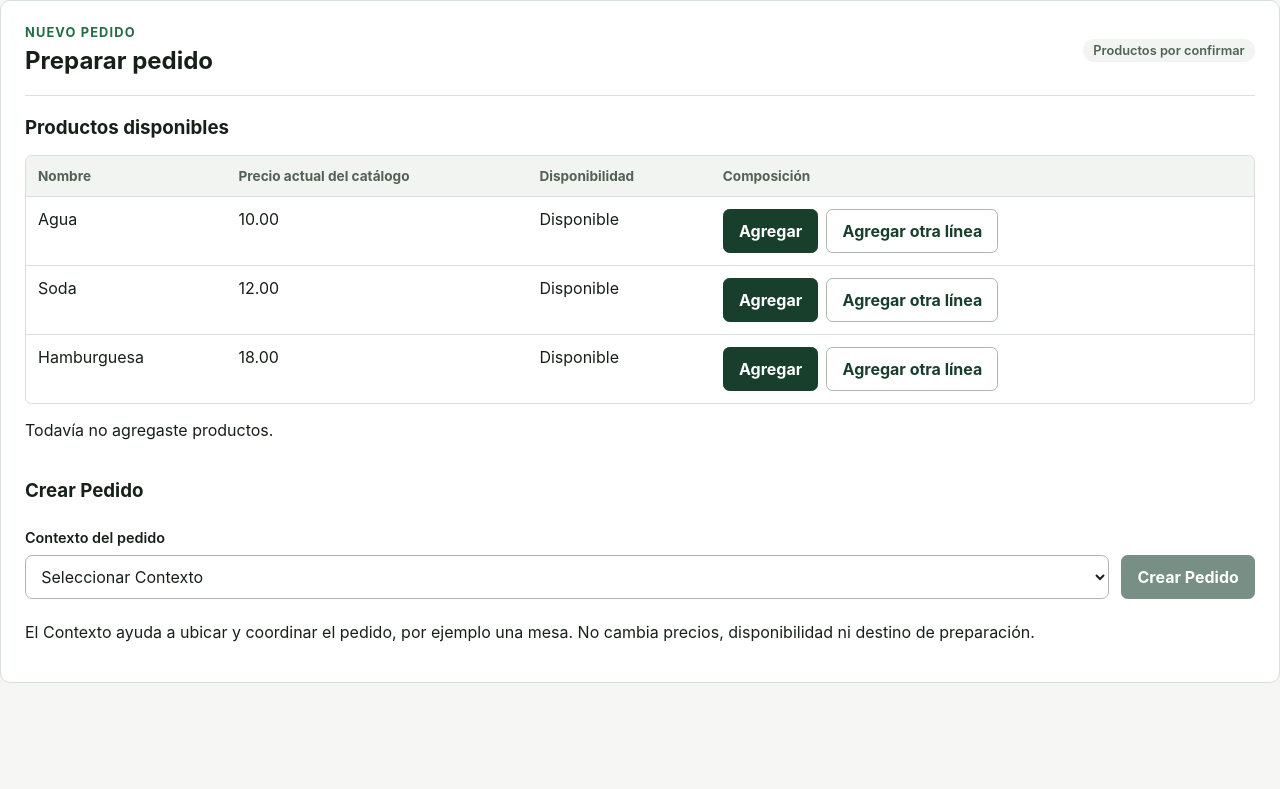
Test: OrderWorkflow - Composición y Primera Confirmación › agrega normal sobre la línea sin instrucción y crea otra línea editable enfocada
Step 1. Click the button "Agregar" in the row of "Hamburguesa" → (771, 369), box [723,347,818,391]
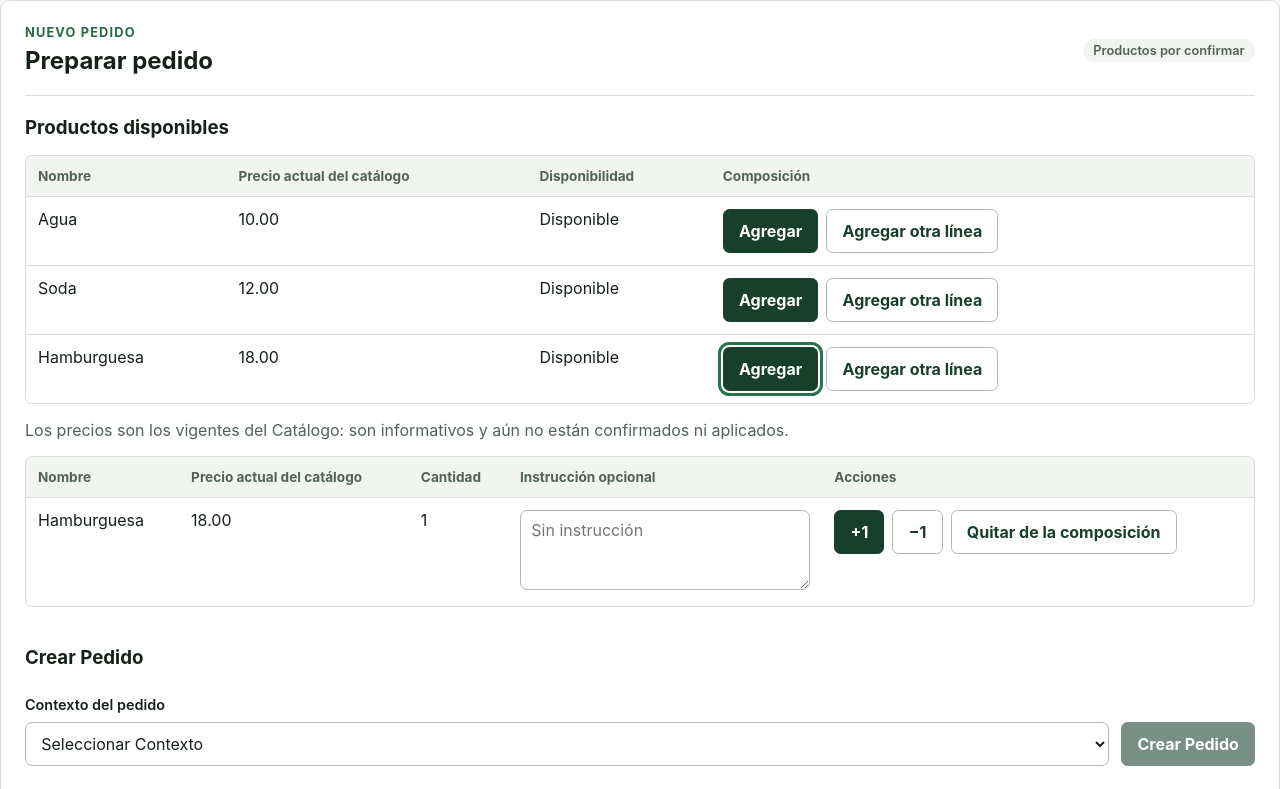
Step 2. Click the 3rd button "Agregar" → (771, 369), box [723,347,818,391]
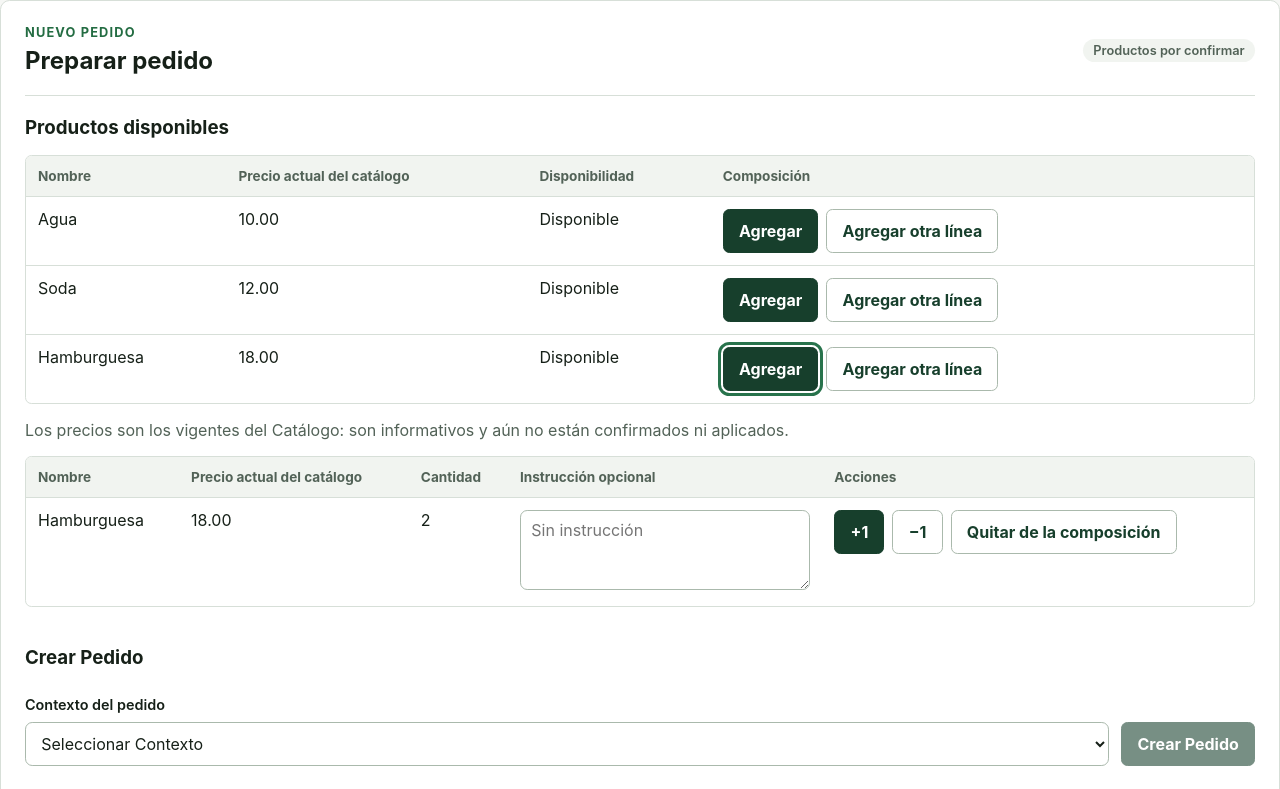
Step 3. Click the button with aria-label "Agregar otra línea de Hamburguesa a Preparar pedido" → (912, 369), box [826,347,998,391]
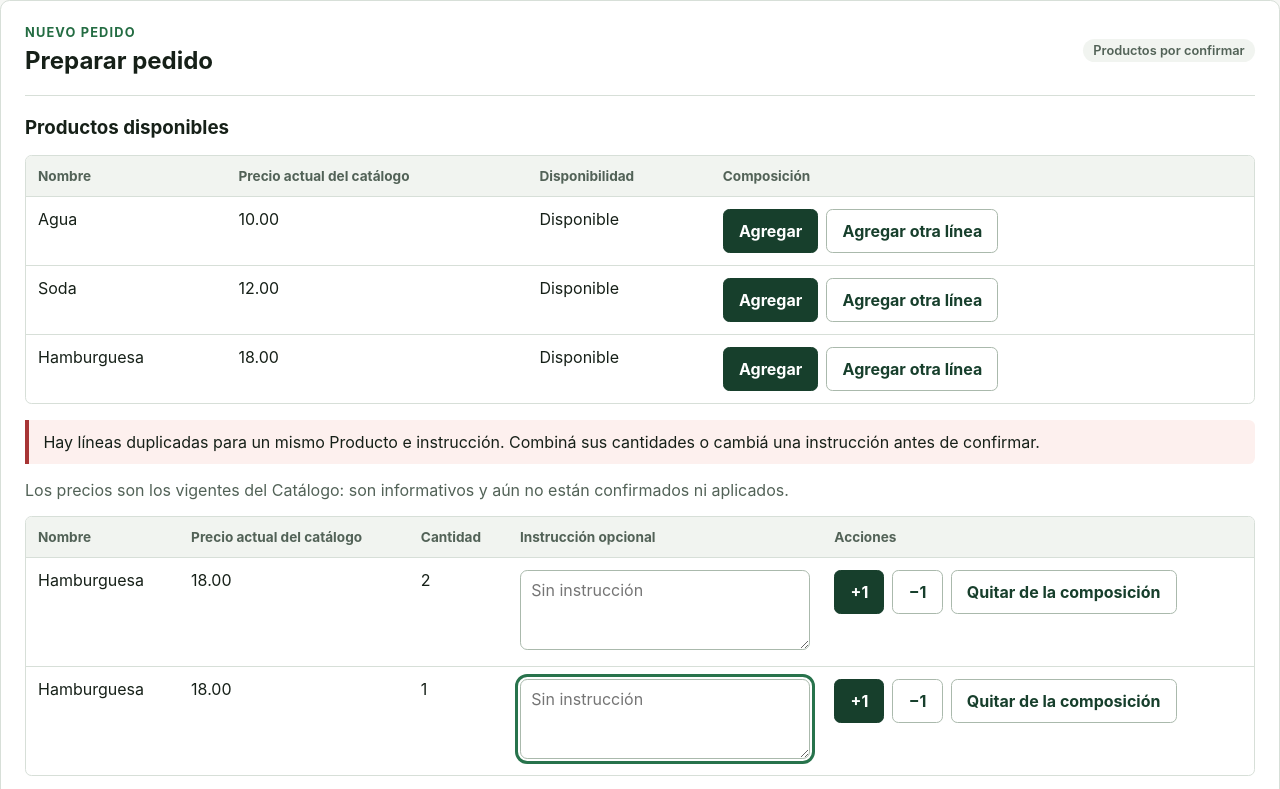
Expected: the message shows "líneas duplicadas", [43,432,1040,452]
Step 4. Type "sin cebolla" into the text box named "Instrucción para Hamburguesa, línea 2" → (665, 719), box [520,679,810,759]
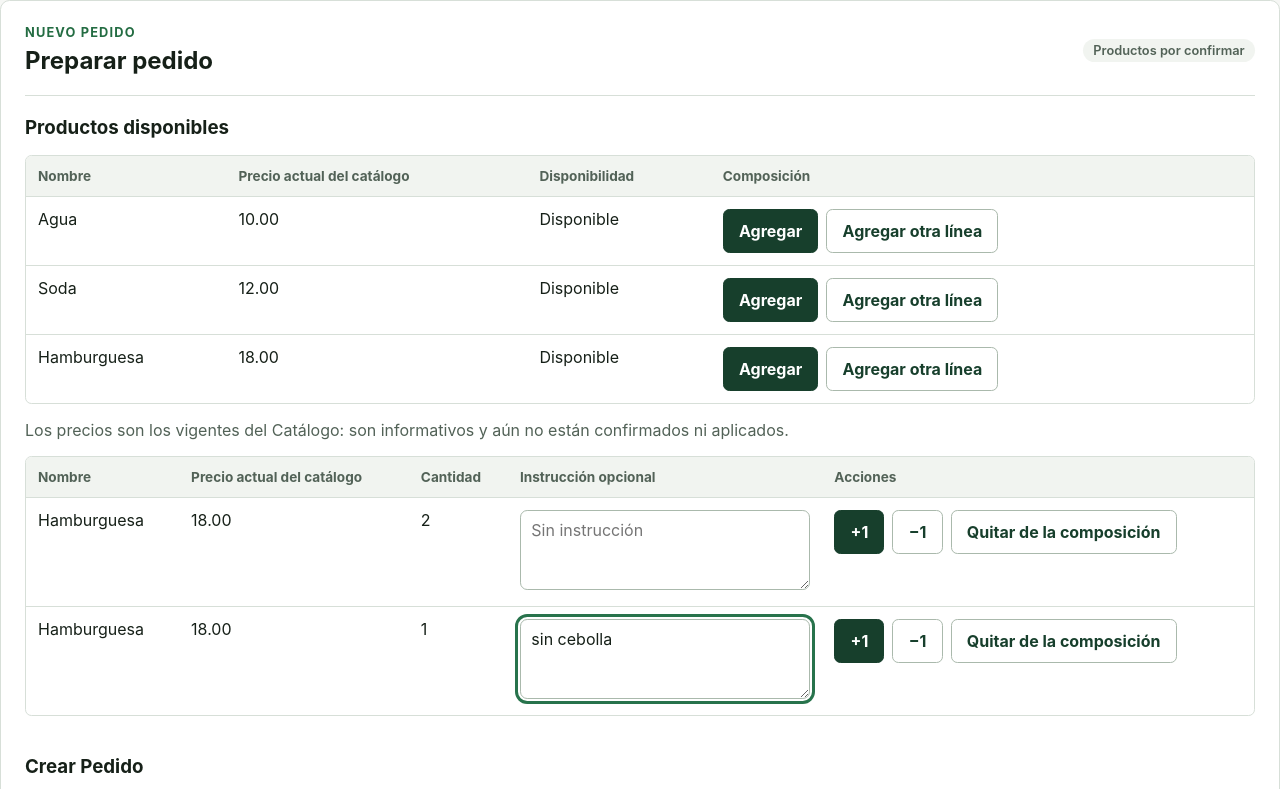
Step 5. Click the 3rd button "Agregar" → (771, 369), box [723,347,818,391]
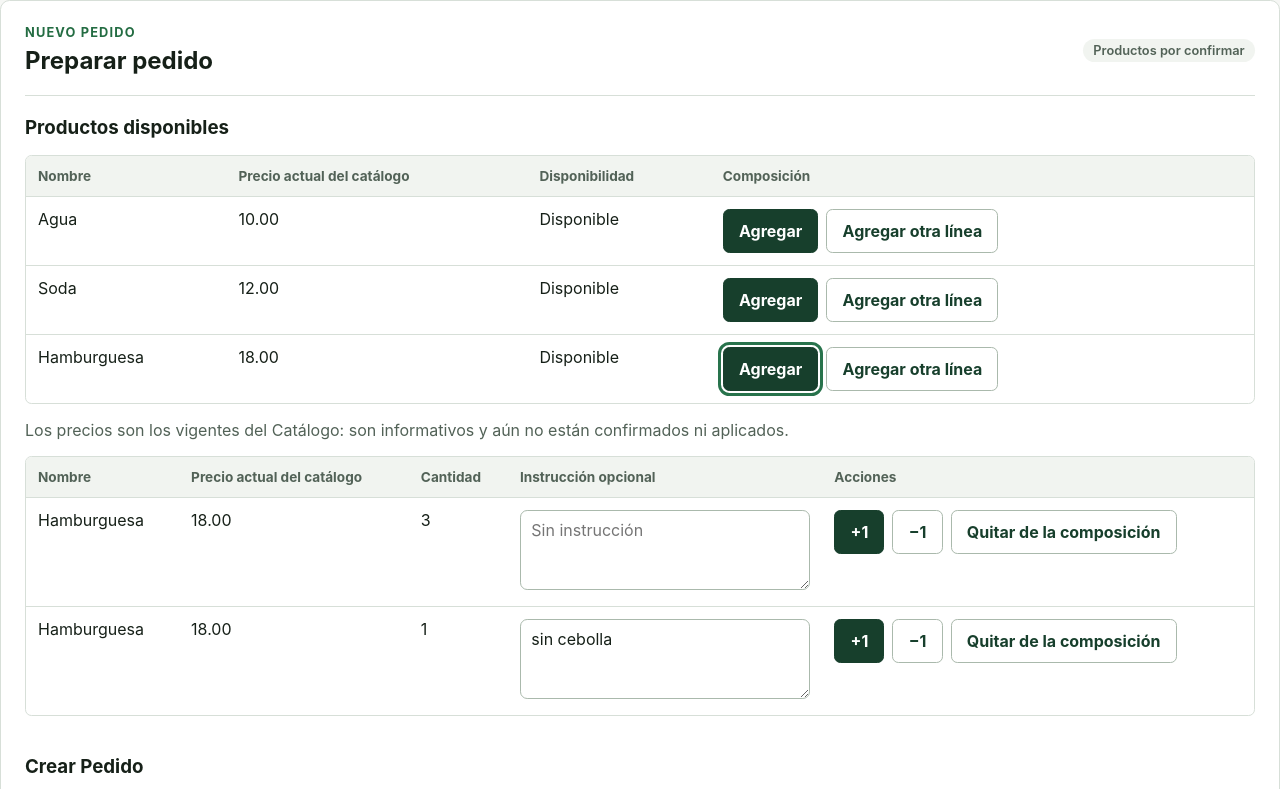
Expected: the cell named "Cantidad de Hamburguesa" reads "1", [421,619,427,639]
Expected: the cell named "Cantidad de Hamburguesa" reads "3", [421,510,431,530]
